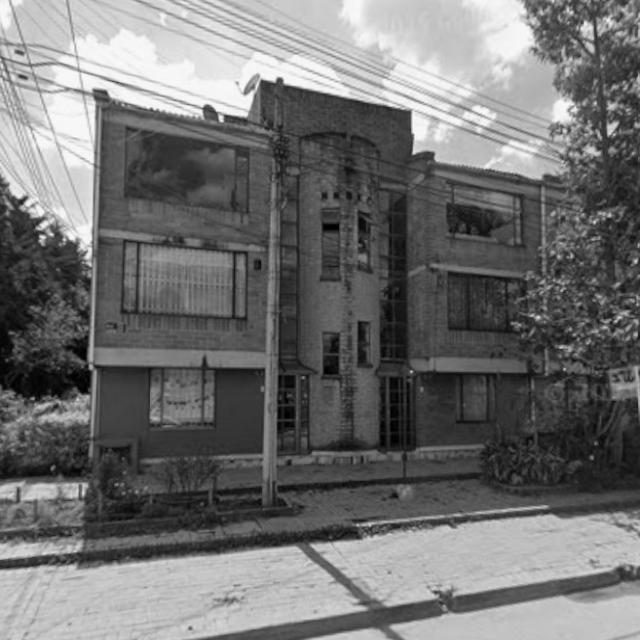Fachada: (88, 80, 559, 468)
Poste: (262, 78, 286, 506)
